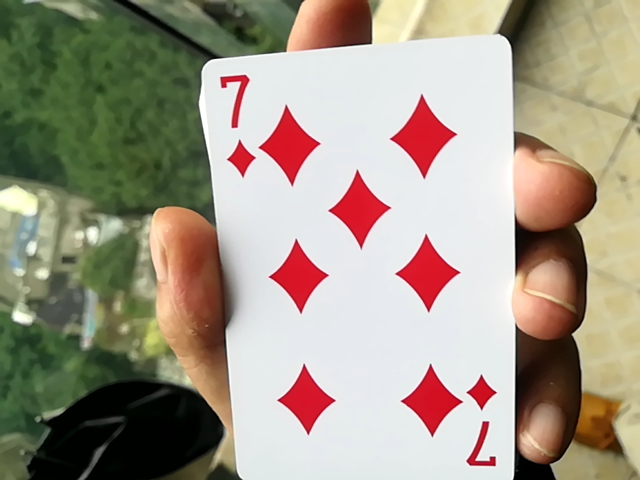fk 7: (180, 24, 518, 480)
